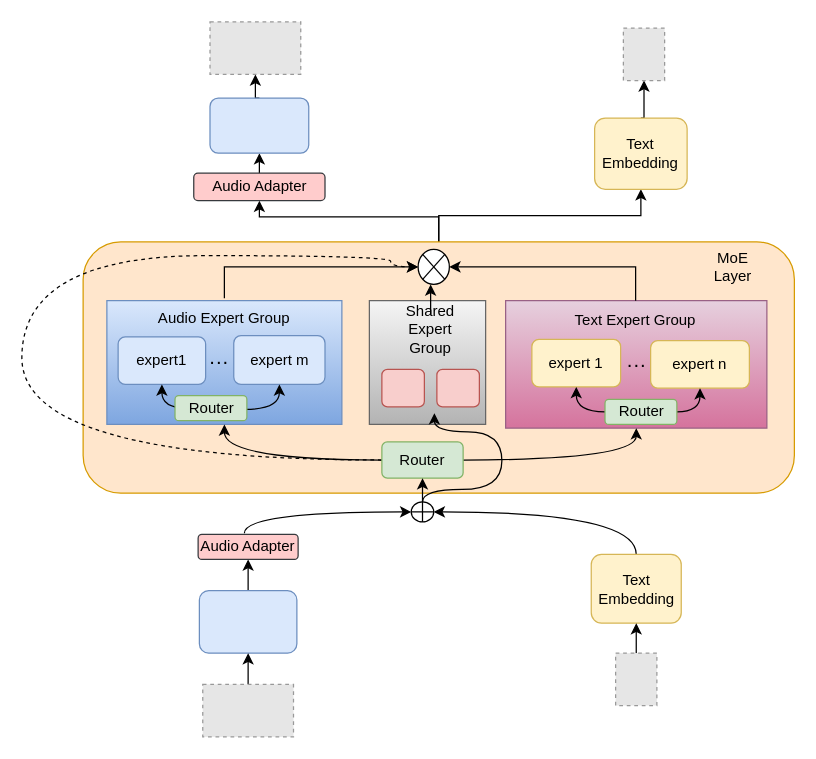
Some shapes in this 816 by 759 pixel diagram are drawn without their labels. Grey dashed boxes stand in for pictures. Each missing label, with the box of its shape:
Audio Decoder: (209, 97, 309, 153)
Audio Encoder: (198, 589, 297, 653)
